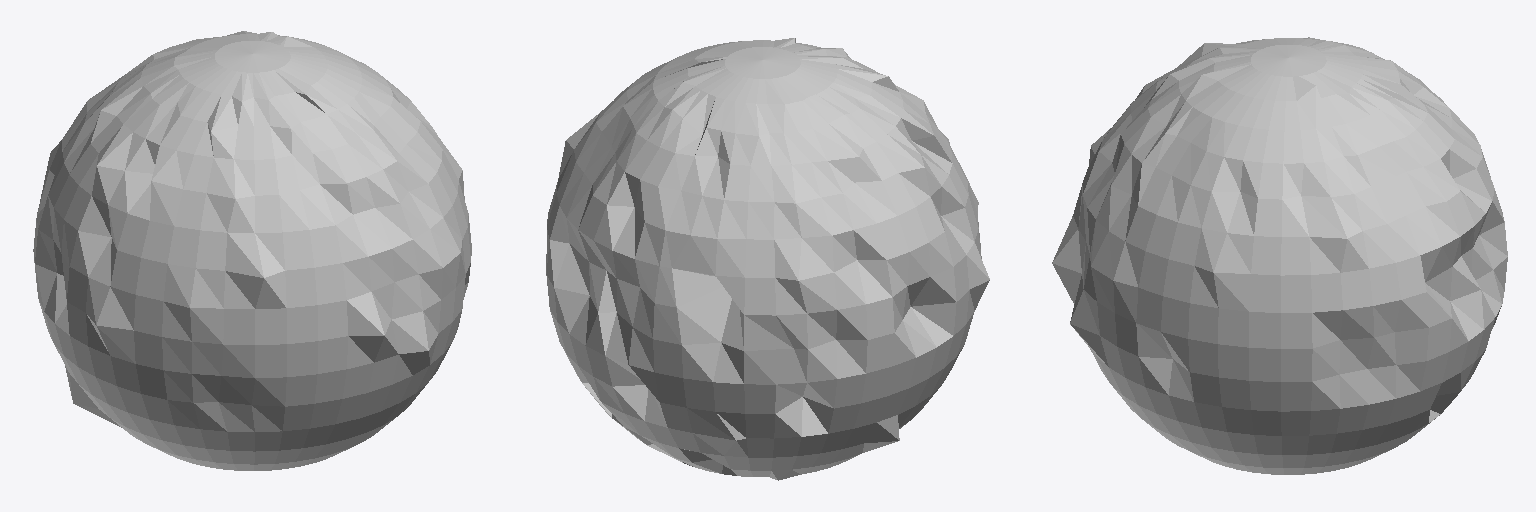
Rendered from meteor4.obj.
3 renders of one model, left to right at view 1: azimuth 30°, elevation 25°; view 2: azimuth 150°, elevation 25°; view 3: azimuth 270°, elevation 25°, orthographic.
Parts seen in each view (by area): view 1: Sphere_Sphere.002; view 2: Sphere_Sphere.002; view 3: Sphere_Sphere.002.
Part boxes in pixels (x1,y1,x2,y2): Sphere_Sphere.002: (33, 31, 471, 470); Sphere_Sphere.002: (546, 38, 989, 480); Sphere_Sphere.002: (1052, 37, 1507, 474).
Size of the model in its own units: 2.01 by 2 by 2.08.